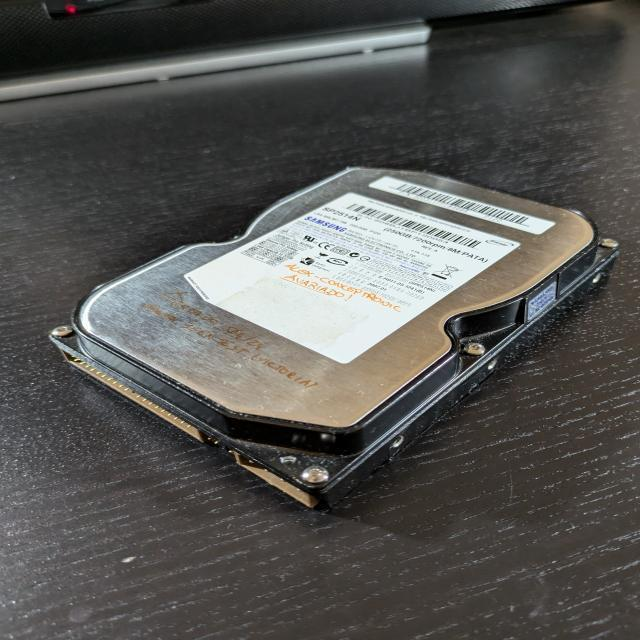DISK: (48, 164, 620, 511)
